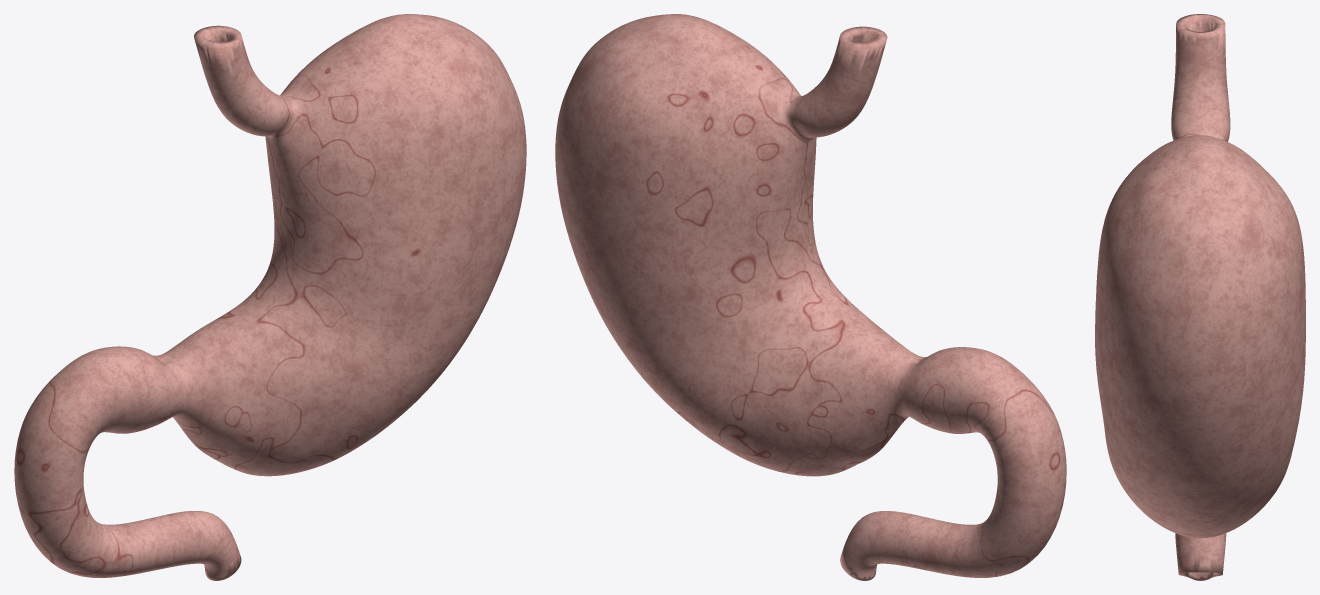
Rendered from stomach.glb.
3 views of the same model, side by side, from view 1: azimuth 30°, elevation 25°; view 2: azimuth 150°, elevation 25°; view 3: azimuth 270°, elevation 25° (orthographic). The views are drawn at different scales.
Parts seen in each view (by area): view 1: Stomach_0; view 2: Stomach_0; view 3: Stomach_0.
Part boxes in pixels (x1,y1,x2,y2): Stomach_0: (14,14,526,580); Stomach_0: (555,14,1066,580); Stomach_0: (1095,14,1305,580).
Bounding box in the file's own units: 4.41 × 4.6 × 1.57.
Materials: 1 (1 with a texture image).
